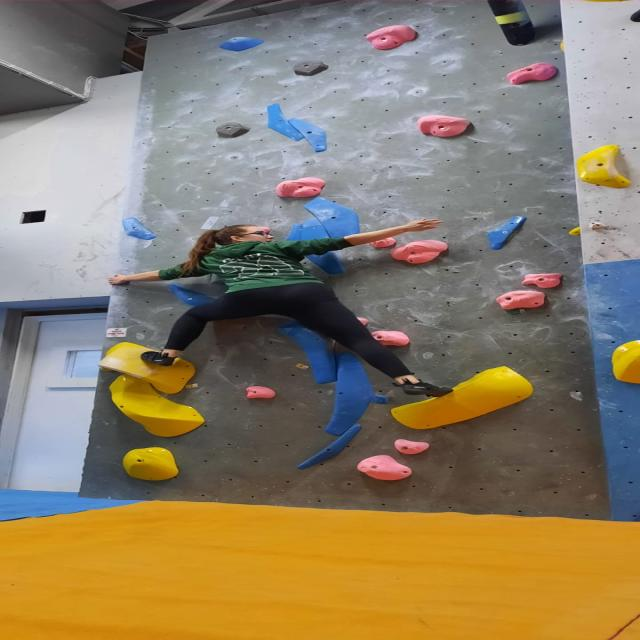Crimp: (319, 348, 376, 432), (274, 316, 336, 386), (264, 100, 330, 153), (296, 422, 364, 472), (306, 248, 351, 278), (116, 214, 161, 242), (369, 392, 391, 404)
Jug: (392, 236, 454, 266), (486, 212, 532, 252), (413, 115, 473, 144), (362, 20, 421, 49), (491, 288, 551, 315), (274, 178, 326, 207), (506, 61, 560, 86), (218, 33, 267, 55), (520, 270, 565, 292), (393, 438, 434, 459), (292, 60, 333, 80), (214, 122, 254, 140)
Sloper: (399, 370, 537, 433), (106, 374, 210, 442), (100, 340, 200, 394), (574, 141, 633, 193), (119, 444, 180, 484), (356, 452, 415, 482), (610, 336, 640, 388), (242, 385, 278, 402)
